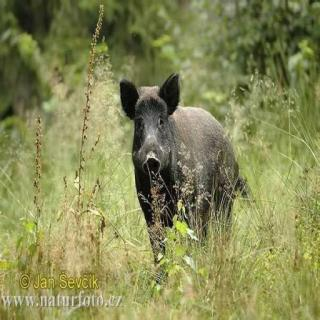Pig: (113, 55, 256, 272)
